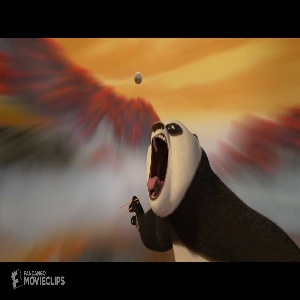po: (122, 114, 299, 262)
